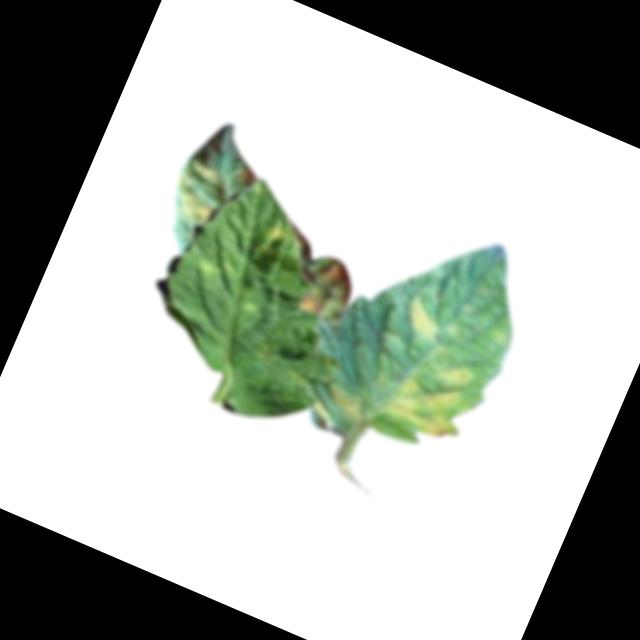Leaf_Mold: (370, 337, 486, 451), (288, 248, 362, 327), (163, 154, 235, 231), (311, 371, 372, 425), (393, 289, 450, 346), (246, 213, 298, 269)
